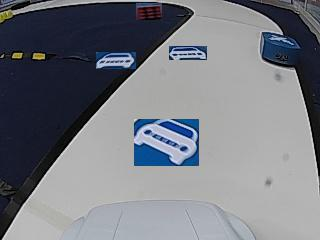prop: (260, 31, 299, 68)
